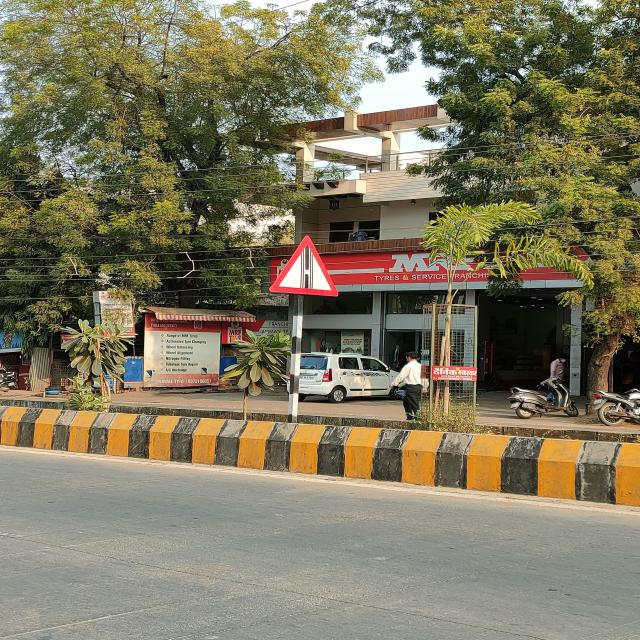ferry: (268, 235, 341, 297)
